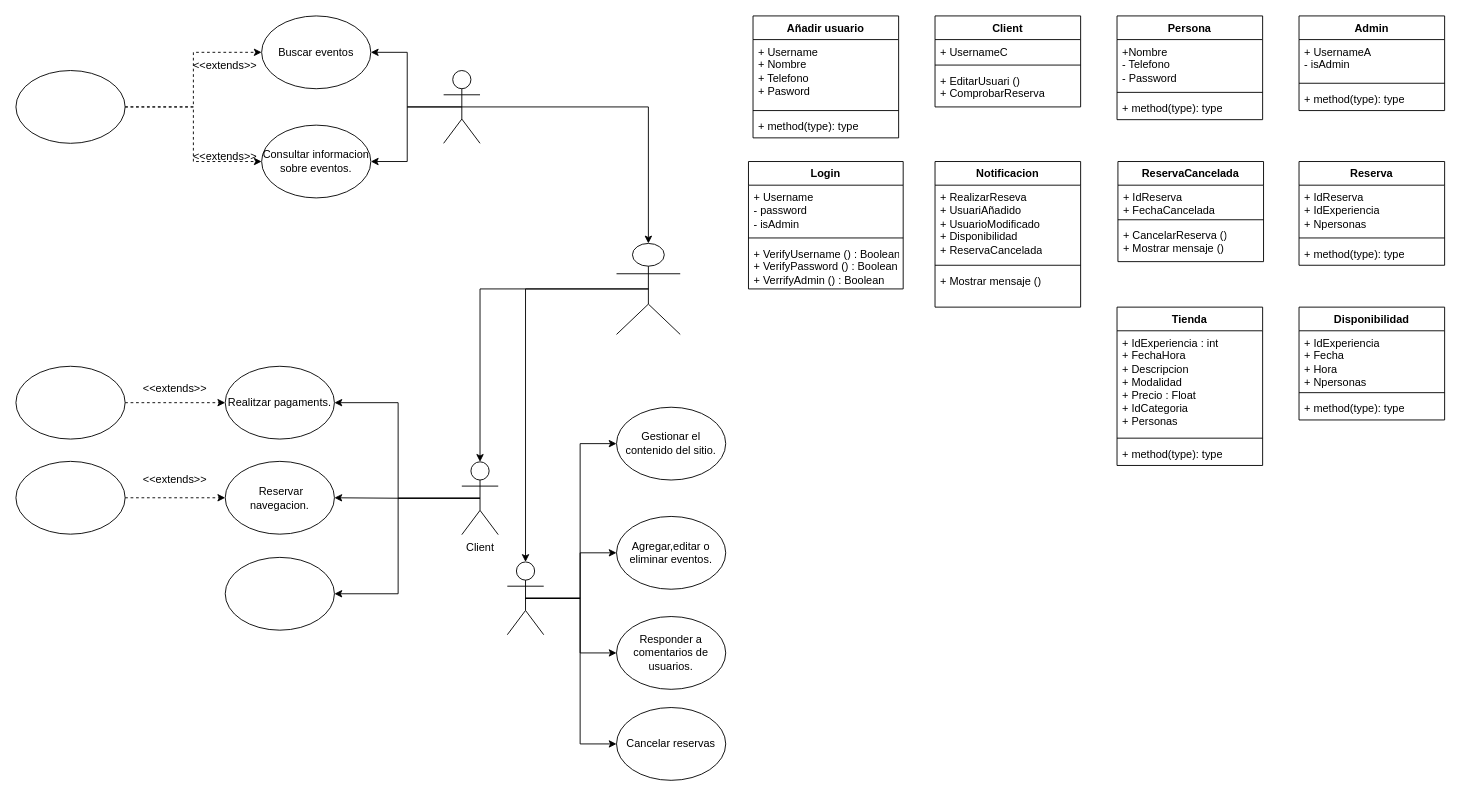
Some shapes in this 1461 by 796 pixel diagram are drawn without their labels. The shapes that lost their labels are listed below. From the top down, each one's centre as x and y in pixels, then its label:
At pixel 70 106: "Registrarse".
At pixel 461 106: "Visitant".
At pixel 648 288: "Autenticador".
At pixel 70 402: "Recibir confirmación de pago".
At pixel 70 497: "Cancelar reserva".
At pixel 279 593: "Deja comentarios y reseñas.".
At pixel 525 598: "Administrador".
